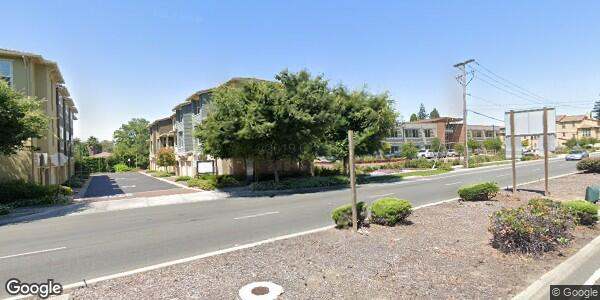Wood_Pole: (452, 56, 477, 167)
